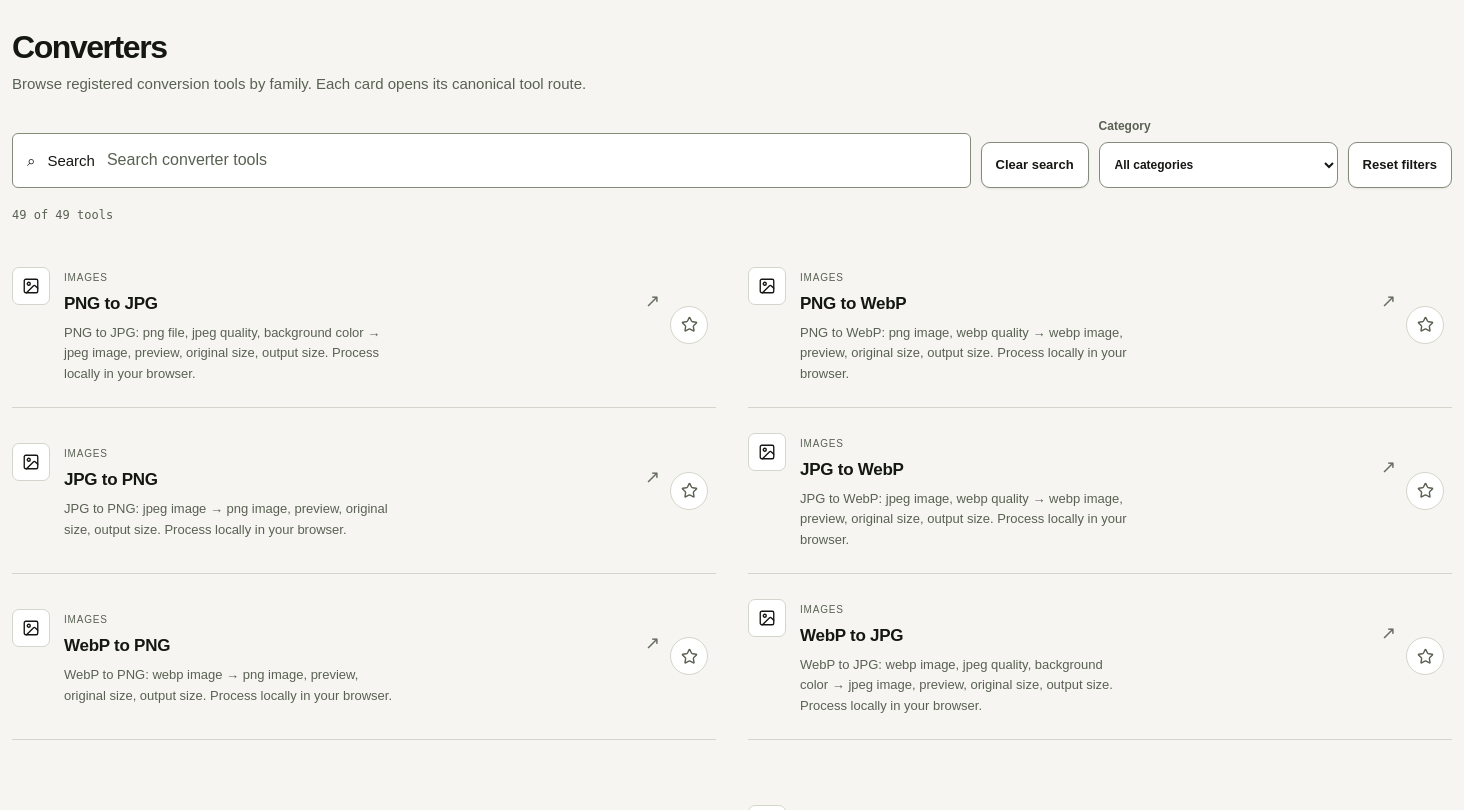
Test case: ConvertersCatalog › renders canonical cards and supports text search
The image size is (1464, 810).
Check: the heading "Converters" is shown, box [12,29,167,65]
In the field named "Search converter tools": point(531, 161) [107,141,956,180], type "yaml"
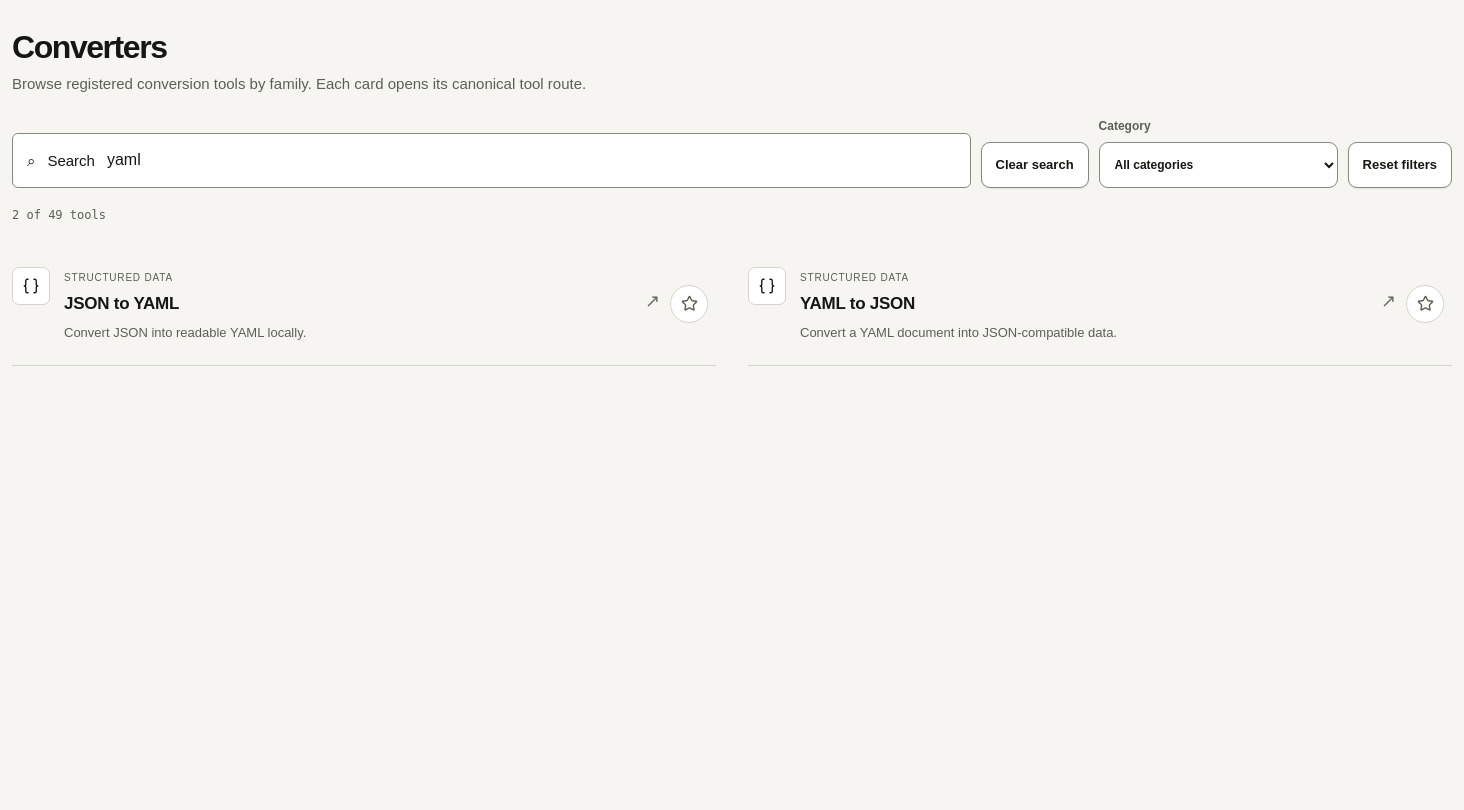
Check: the link "JSON to YAML" is shown, box [12,267,660,340]
Check: the message shows "2 of", box [12,208,106,222]
